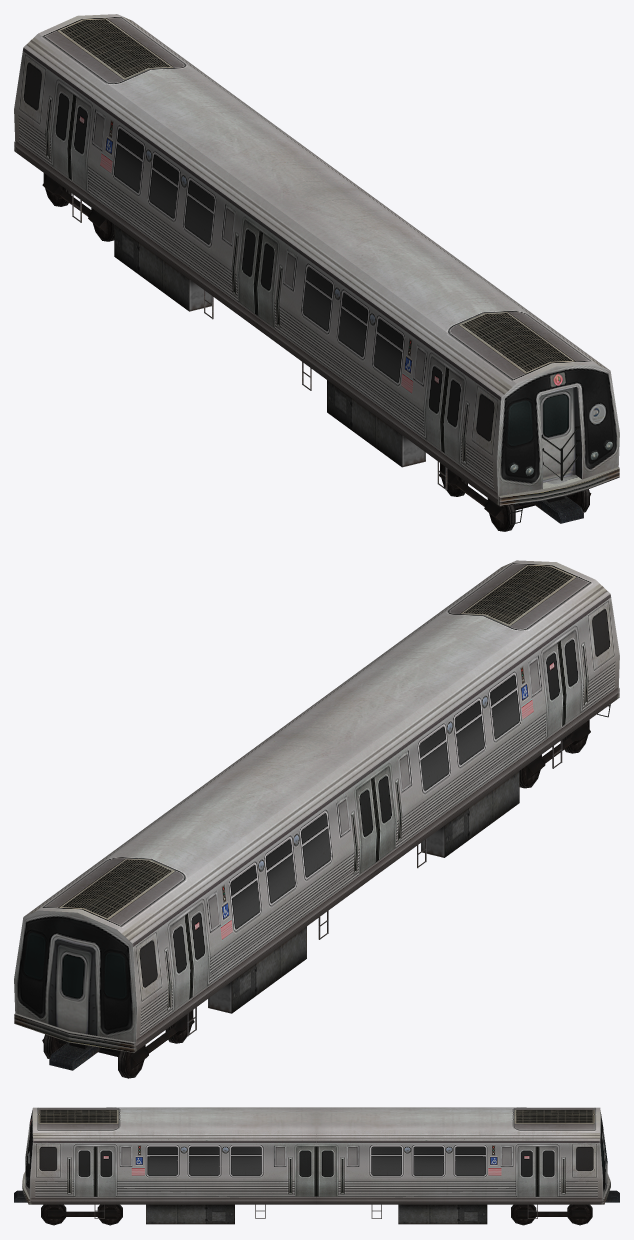
File: PassengerTrain_LOD_01.fbx
3 renders of one model, top to bottom at view 1: azimuth 30°, elevation 25°; view 2: azimuth 150°, elevation 25°; view 3: azimuth 270°, elevation 25°, orthographic. The views are drawn at different scales.
Visible parts, largest first — view 1: PassengerTrain_Body, passenger_train_split_Wheels07, Struts_03, Struts_02; view 2: PassengerTrain_Body, passenger_train_split_Wheels04, Struts_02, Struts_03; view 3: PassengerTrain_Body, Struts_02, Struts_03, passenger_train_split_Wheels04, passenger_train_split_Wheels07, passenger_train_split_Wheels06, passenger_train_split_Wheels05.
Boxes of the visible parts, x1=… form: PassengerTrain_Body: x1=14, y1=14, x2=619, y2=524; passenger_train_split_Wheels07: x1=487, y1=489, x2=589, y2=531; Struts_03: x1=439, y1=466, x2=591, y2=523; Struts_02: x1=42, y1=176, x2=107, y2=233; PassengerTrain_Body: x1=14, y1=560, x2=619, y2=1070; passenger_train_split_Wheels04: x1=43, y1=1034, x2=145, y2=1078; Struts_02: x1=42, y1=1013, x2=194, y2=1070; Struts_03: x1=525, y1=723, x2=590, y2=780; PassengerTrain_Body: x1=14, y1=1107, x2=619, y2=1224; Struts_02: x1=516, y1=1209, x2=587, y2=1218; Struts_03: x1=46, y1=1209, x2=117, y2=1218; passenger_train_split_Wheels04: x1=567, y1=1204, x2=592, y2=1225; passenger_train_split_Wheels07: x1=41, y1=1204, x2=66, y2=1225; passenger_train_split_Wheels06: x1=97, y1=1204, x2=122, y2=1225; passenger_train_split_Wheels05: x1=511, y1=1204, x2=536, y2=1225.
Size of the model in its own units: 2.67 by 3.48 by 19.22.
